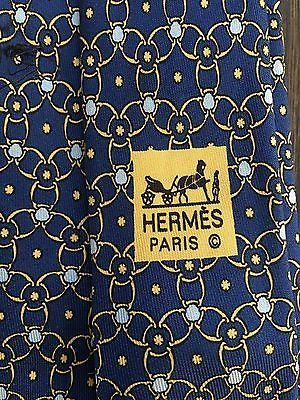HERMES: (137, 159, 228, 252)
